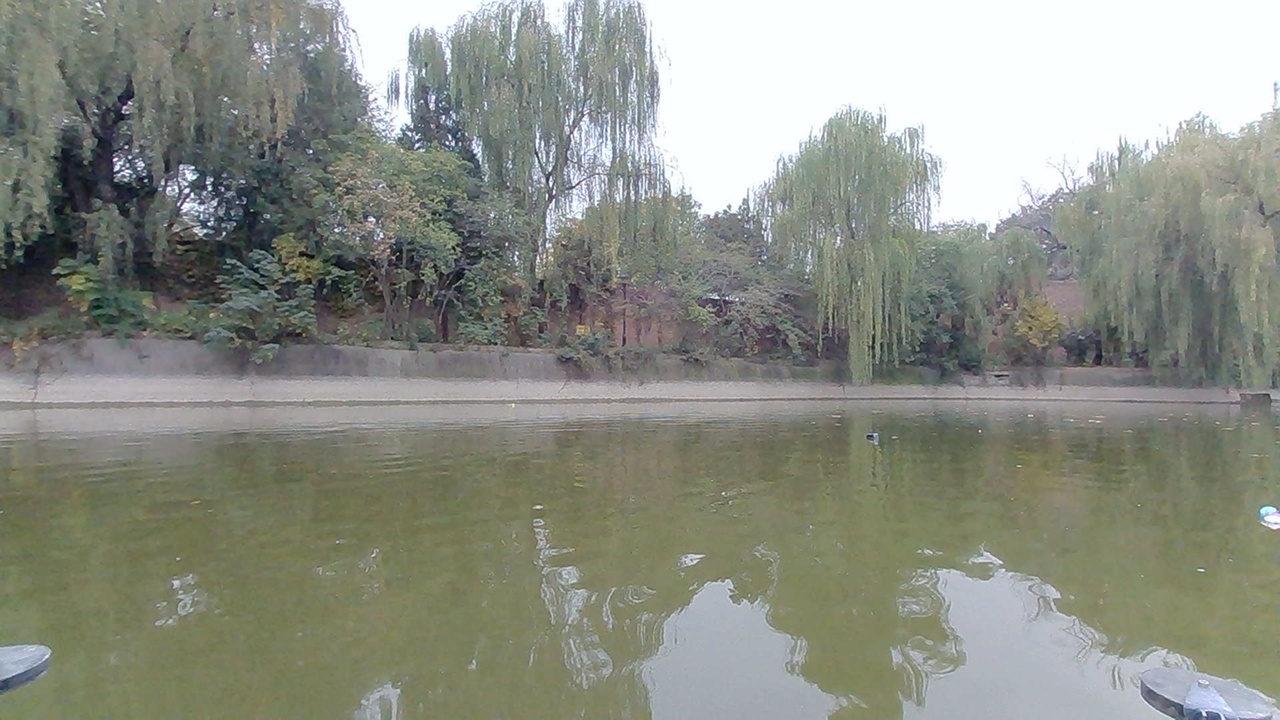bottle: (1251, 500, 1280, 543), (857, 420, 885, 446)
